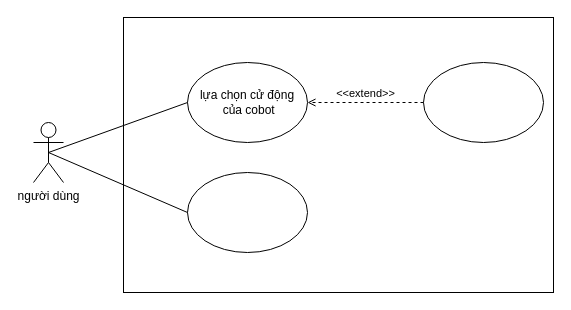
The diagram is 571 pixels wide and 310 high, and some of its shapes have lost their labels. The shapes that lost their labels are listed below. From the top down, each one's centre as x and y in pixels, then its label:
At (x=483, y=102): "thêm cử động".
At (x=247, y=212): "yêu cầu cobot thực hiện hành động".
